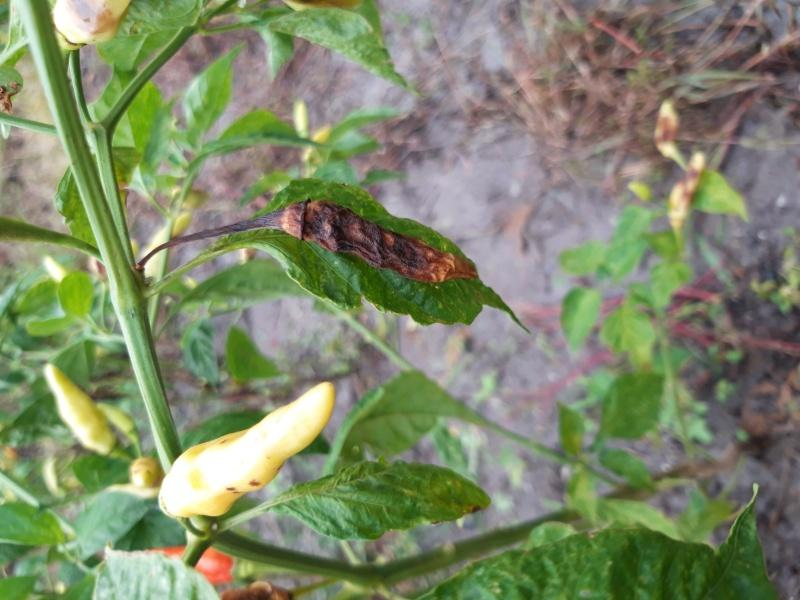antraknosa: (159, 383, 337, 517), (301, 194, 478, 289)
cabai_normal: (41, 362, 116, 455)
